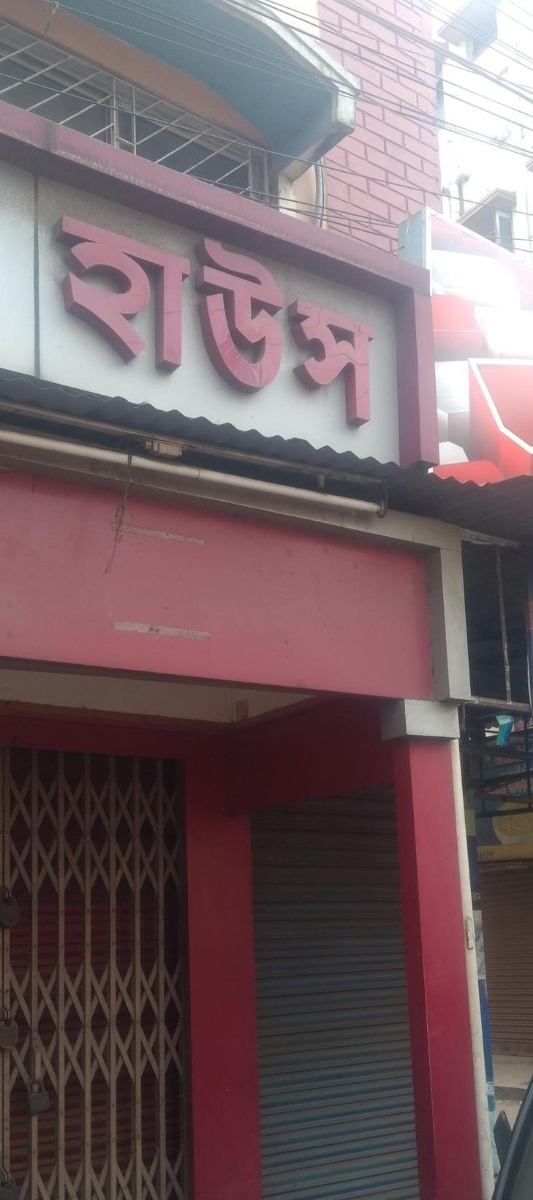text: (65, 175, 80, 447), (81, 175, 96, 447), (97, 175, 112, 447), (113, 175, 128, 447), (129, 175, 144, 447), (145, 175, 160, 447), (161, 175, 176, 447), (177, 175, 192, 447), (193, 175, 208, 447), (209, 175, 224, 447), (225, 175, 240, 447), (241, 175, 256, 447), (257, 175, 272, 447), (273, 175, 288, 447), (289, 175, 304, 447), (305, 175, 320, 447), (321, 175, 336, 447), (337, 175, 352, 447), (353, 175, 368, 447), (369, 175, 384, 447), (52, 175, 64, 447), (385, 175, 397, 447)
